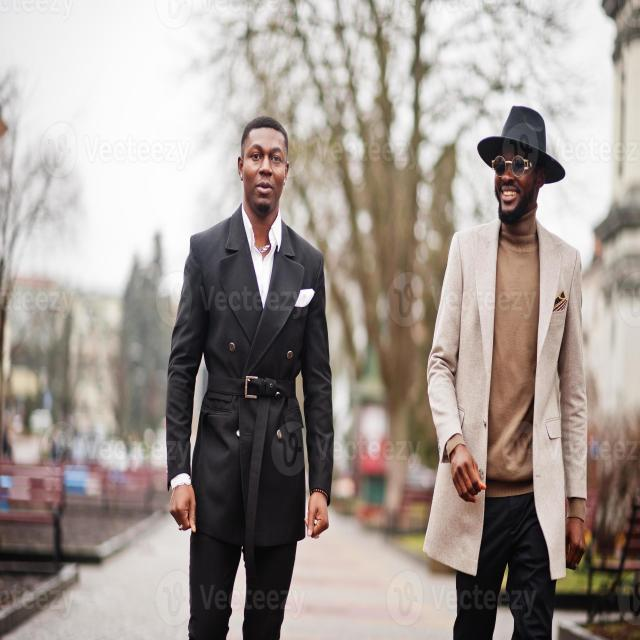sem_oculos: (488, 147, 539, 182), (239, 142, 288, 173)
